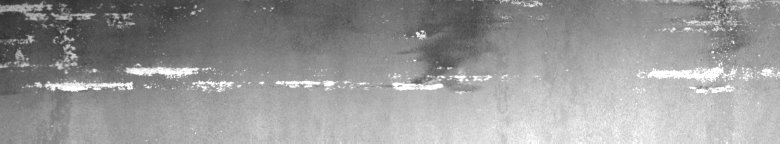kb: (4, 4, 544, 100)
